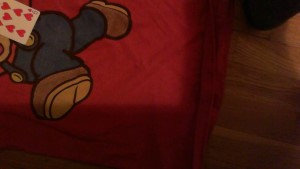NineOfHearts: (1, 1, 41, 45)
